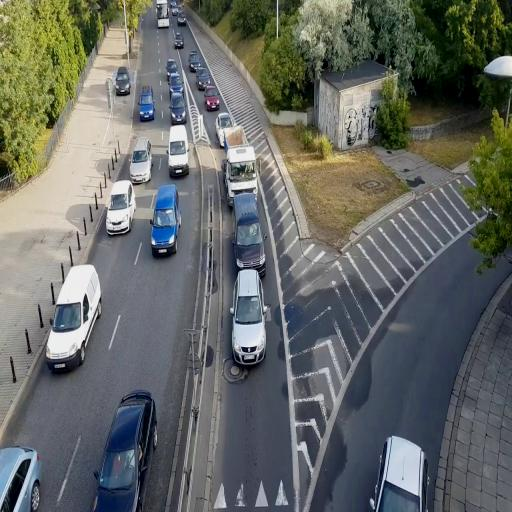vehicle: (94, 389, 157, 512), (45, 263, 102, 373), (226, 145, 267, 274), (231, 269, 267, 367), (230, 181, 266, 273), (0, 445, 41, 511), (150, 183, 181, 256), (225, 145, 258, 203), (106, 179, 136, 236), (167, 126, 189, 176), (130, 140, 152, 185), (215, 110, 234, 148), (138, 85, 154, 122), (114, 67, 131, 95), (170, 95, 186, 123), (196, 69, 210, 90), (205, 94, 220, 112), (189, 52, 200, 72), (176, 32, 184, 50)
